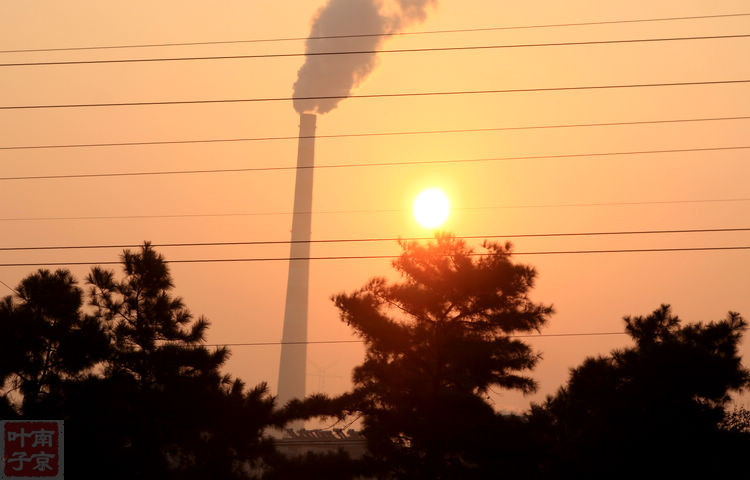dust: (281, 4, 435, 129)
